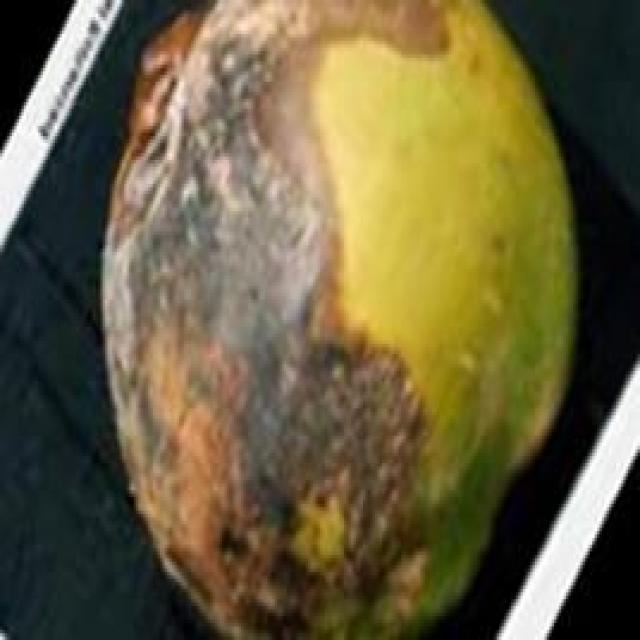damaged: (96, 0, 583, 637)
